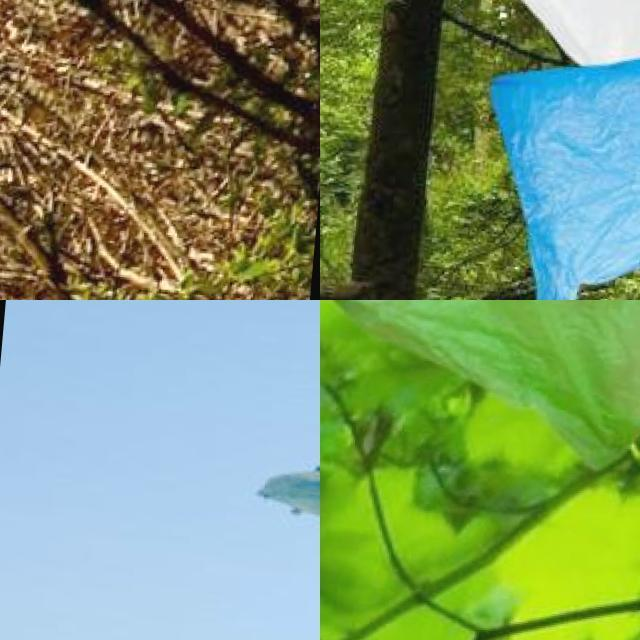waste: (320, 300, 640, 467), (460, 38, 640, 300), (254, 421, 320, 544)
